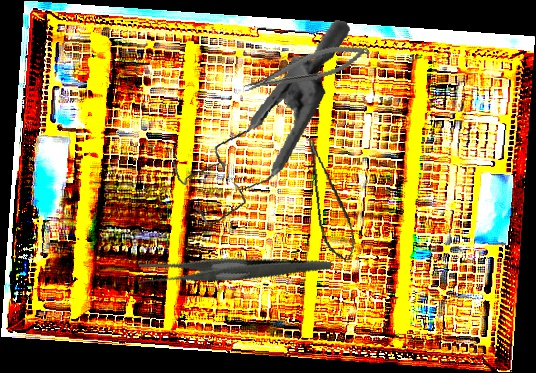Dressing Forceps: (134, 211, 333, 333)
Micro Scissor: (304, 134, 359, 264)
Needle Holder: (239, 37, 373, 99)
Speculum: (164, 0, 351, 243)
